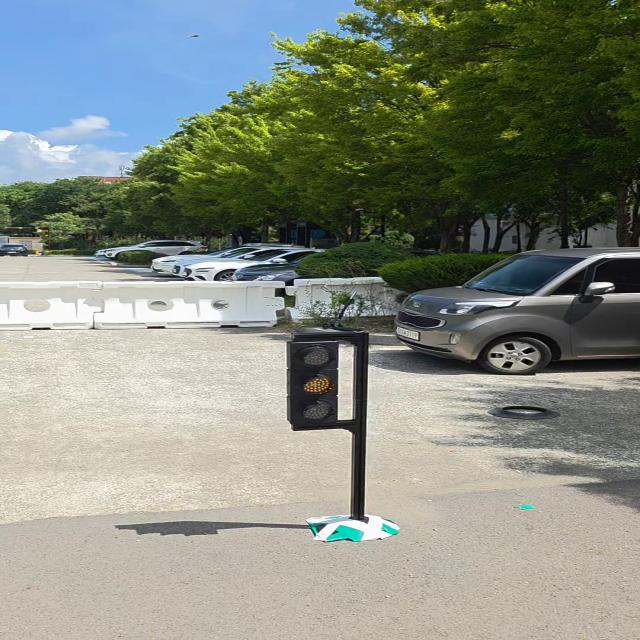yellow: (285, 340, 339, 426)
